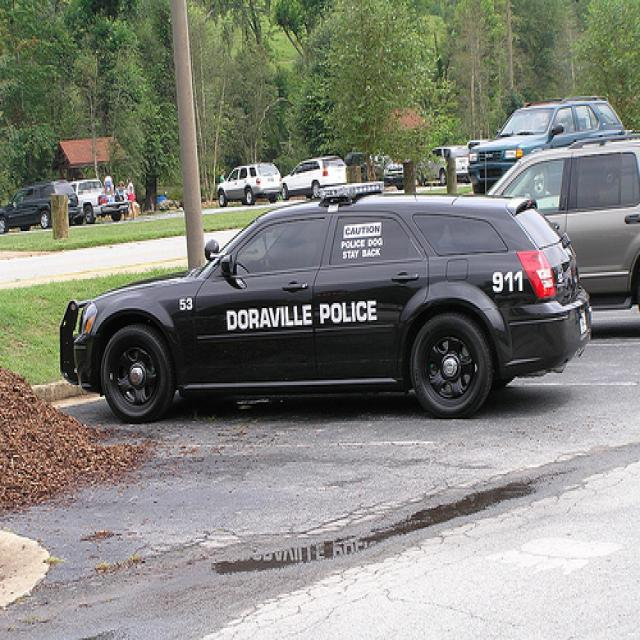Car: (49, 184, 596, 433), (477, 134, 640, 322), (470, 96, 632, 205), (214, 144, 286, 204), (0, 178, 72, 233), (282, 149, 356, 199), (408, 136, 478, 187), (70, 174, 125, 224)
